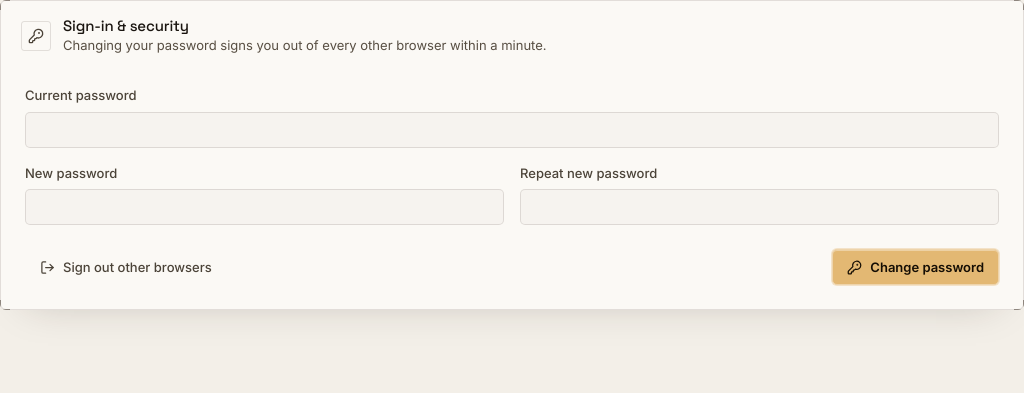
Test: SecurityCard › signs out the other browsers
The width and height of the screenshot is (1024, 393).
Click the button "Sign out other browsers": point(126, 267) left=25, top=249, right=227, bottom=285
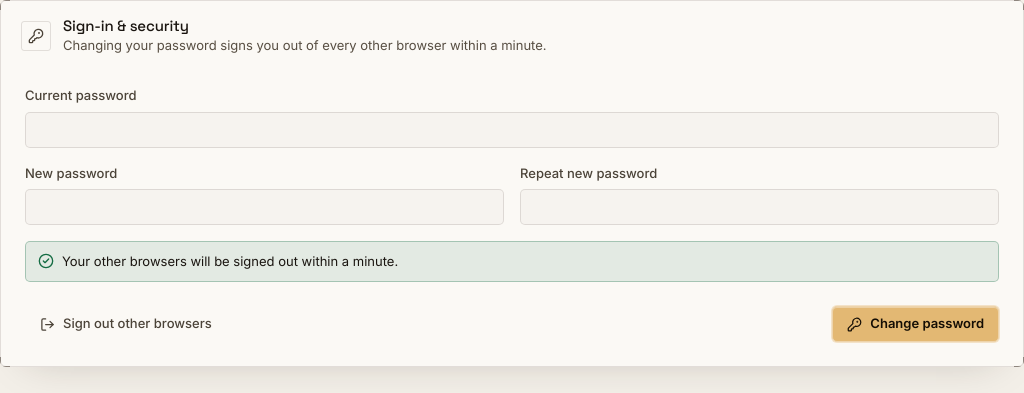
Check: the text "Your other browsers will be signed out within a minute." is shown, box left=62, top=252, right=398, bottom=271
